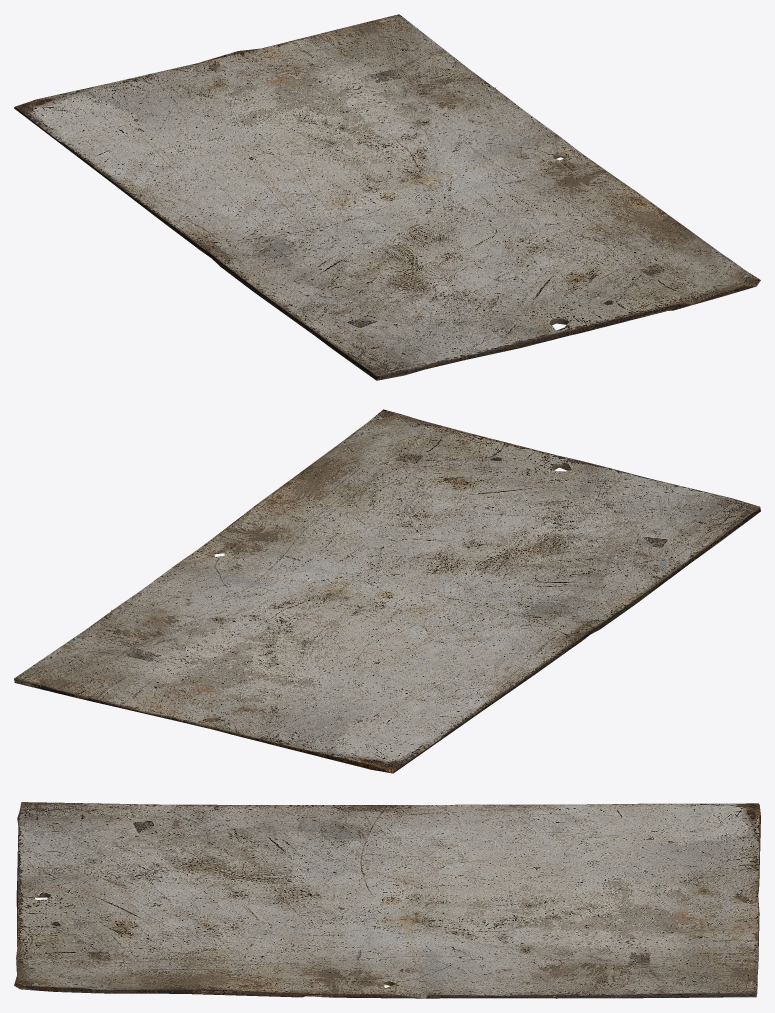
File: SM_Urb_Roa_Sheet_Metal_Rusty_03.gltf
The picture shows the model from 3 angles, top to bottom: view 1: azimuth 30°, elevation 25°; view 2: azimuth 150°, elevation 25°; view 3: azimuth 270°, elevation 25°; orthographic projection.
Parts seen in each view (by area): view 1: SM_Urb_Roa_Sheet_Metal_Rusty_03; view 2: SM_Urb_Roa_Sheet_Metal_Rusty_03; view 3: SM_Urb_Roa_Sheet_Metal_Rusty_03.
Boxes of the visible parts, <box> form: SM_Urb_Roa_Sheet_Metal_Rusty_03: <box>14,14,760,380</box>; SM_Urb_Roa_Sheet_Metal_Rusty_03: <box>14,409,760,773</box>; SM_Urb_Roa_Sheet_Metal_Rusty_03: <box>14,802,760,998</box>.
Size of the model in its own units: 1.86 by 0.0543 by 3.08.
1 material, 1 textured.
